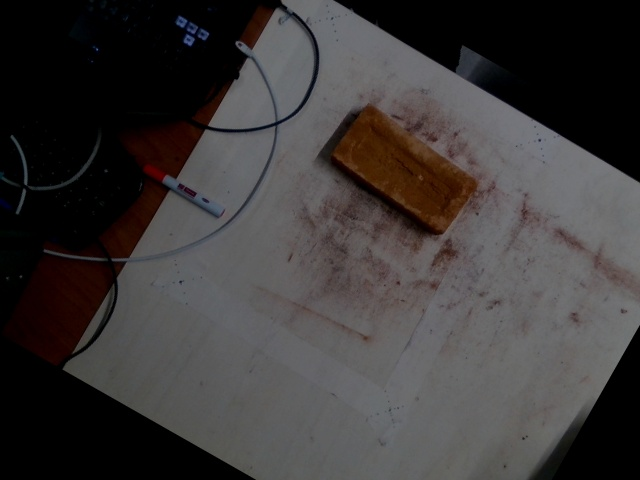brick: (332, 105, 477, 235)
